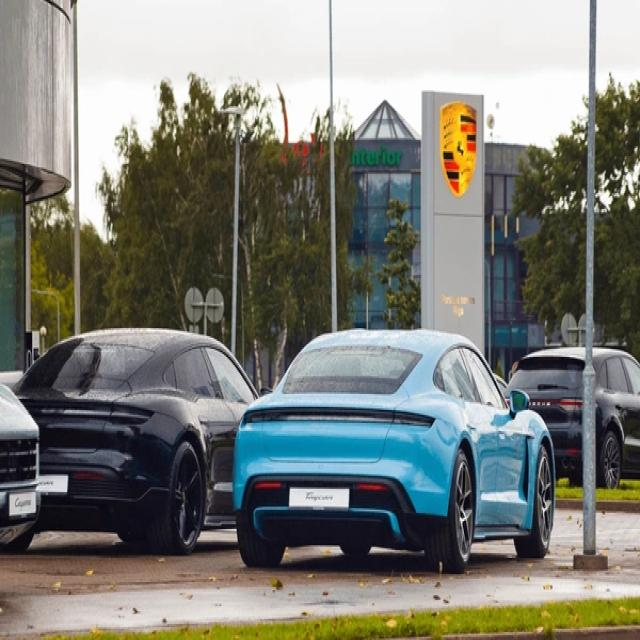porsche: (435, 93, 481, 200)
